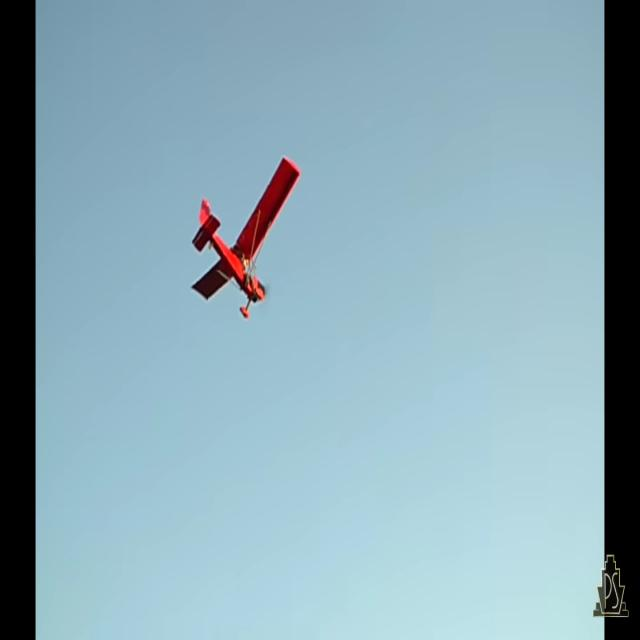iha: (222, 153, 270, 321)
